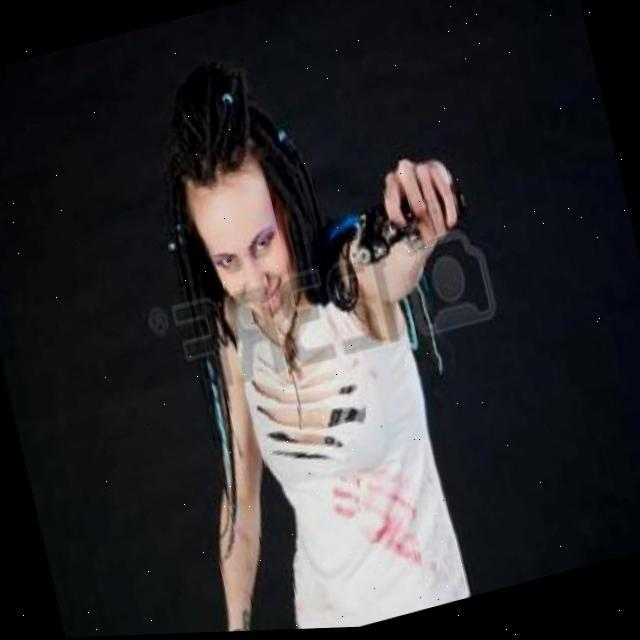gun: (328, 158, 480, 282), (220, 606, 277, 634)
